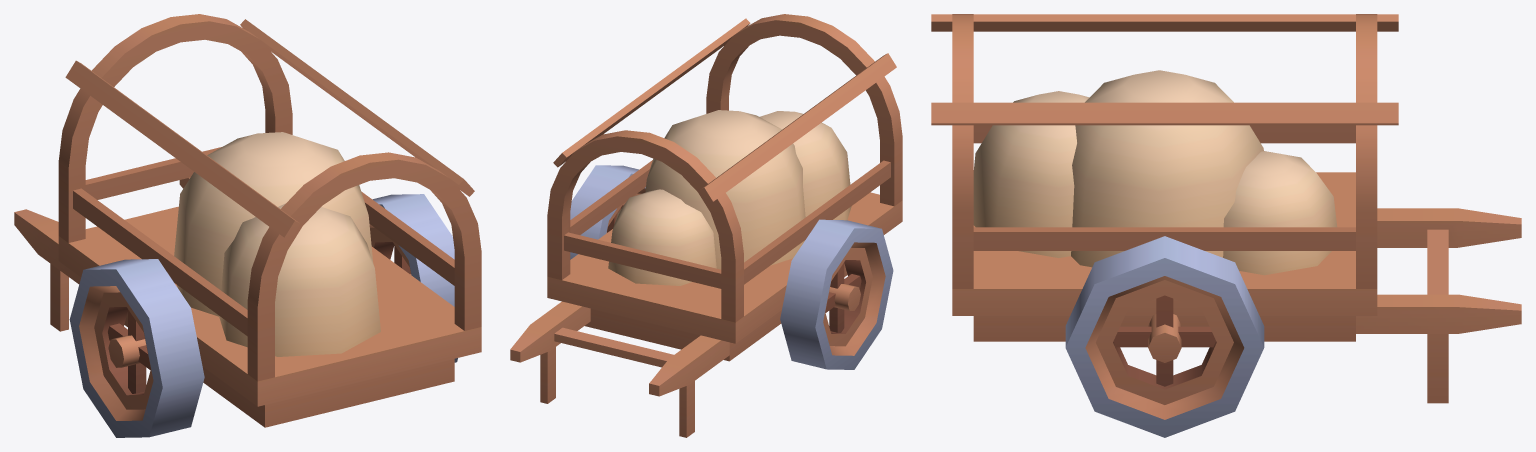
Rendered from food_cart.glb.
3 views of the same model, side by side, from view 1: azimuth 30°, elevation 25°; view 2: azimuth 150°, elevation 25°; view 3: azimuth 270°, elevation 25° (orthographic). The views are drawn at different scales.
Visible parts, largest first — view 1: Group; view 2: Group; view 3: Group.
Boxes of the visible parts, bbox=[...] form: Group: bbox=[14, 14, 481, 437]; Group: bbox=[510, 14, 902, 437]; Group: bbox=[931, 14, 1521, 437].
Bounding box in the file's own units: 1.43 × 1.38 × 2.22.
Materials: 1 (1 with a texture image).
